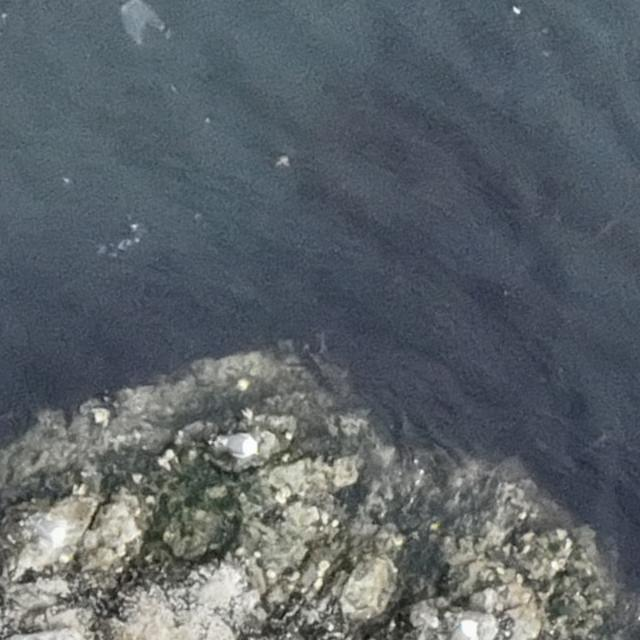umineko: (219, 434, 260, 454), (453, 621, 478, 637)
